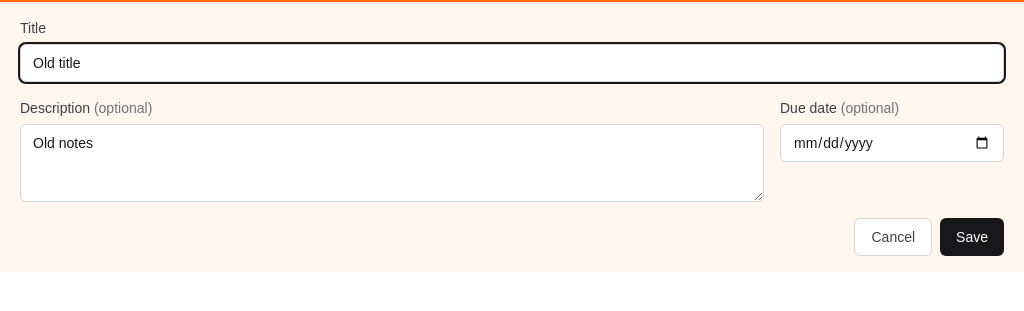
Test: TaskForm: edit › blocks updateTask on invalid input
Clear the field labelled "Title" at point(512, 63), box x1=20 y1=44 x2=1004 y2=82
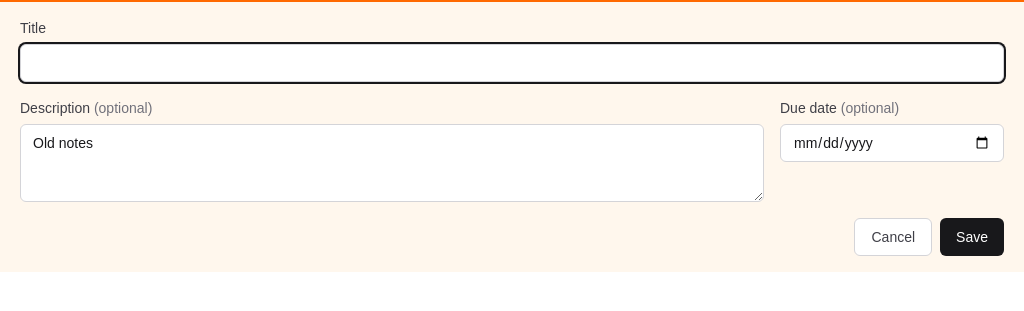
Click the button "Save" at point(972, 237), box x1=940 y1=218 x2=1004 y2=256
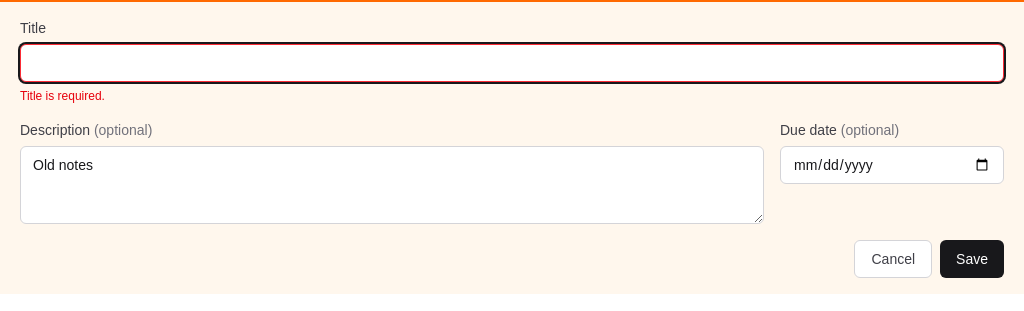
Expected: the text "Title is required." is shown, x1=20 y1=89 x2=105 y2=103
